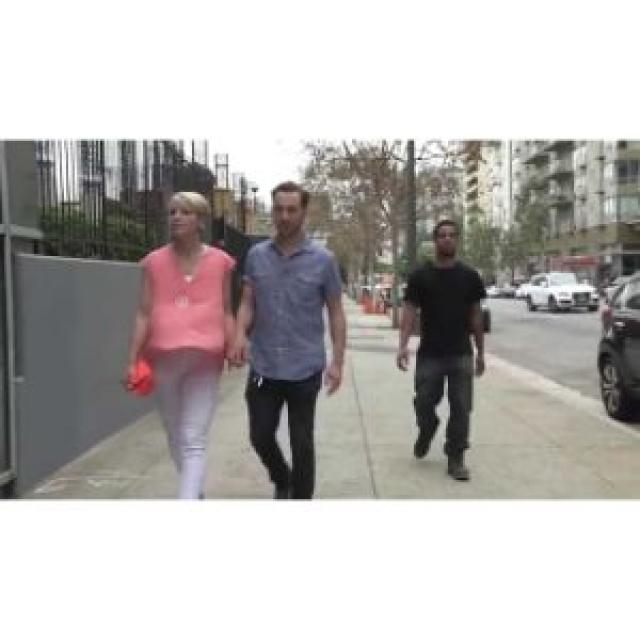nonfall: (243, 171, 359, 499), (120, 194, 235, 495), (392, 222, 494, 478)
